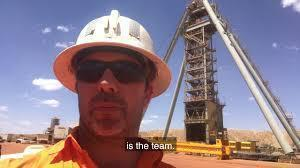helmet: (52, 10, 173, 93)
